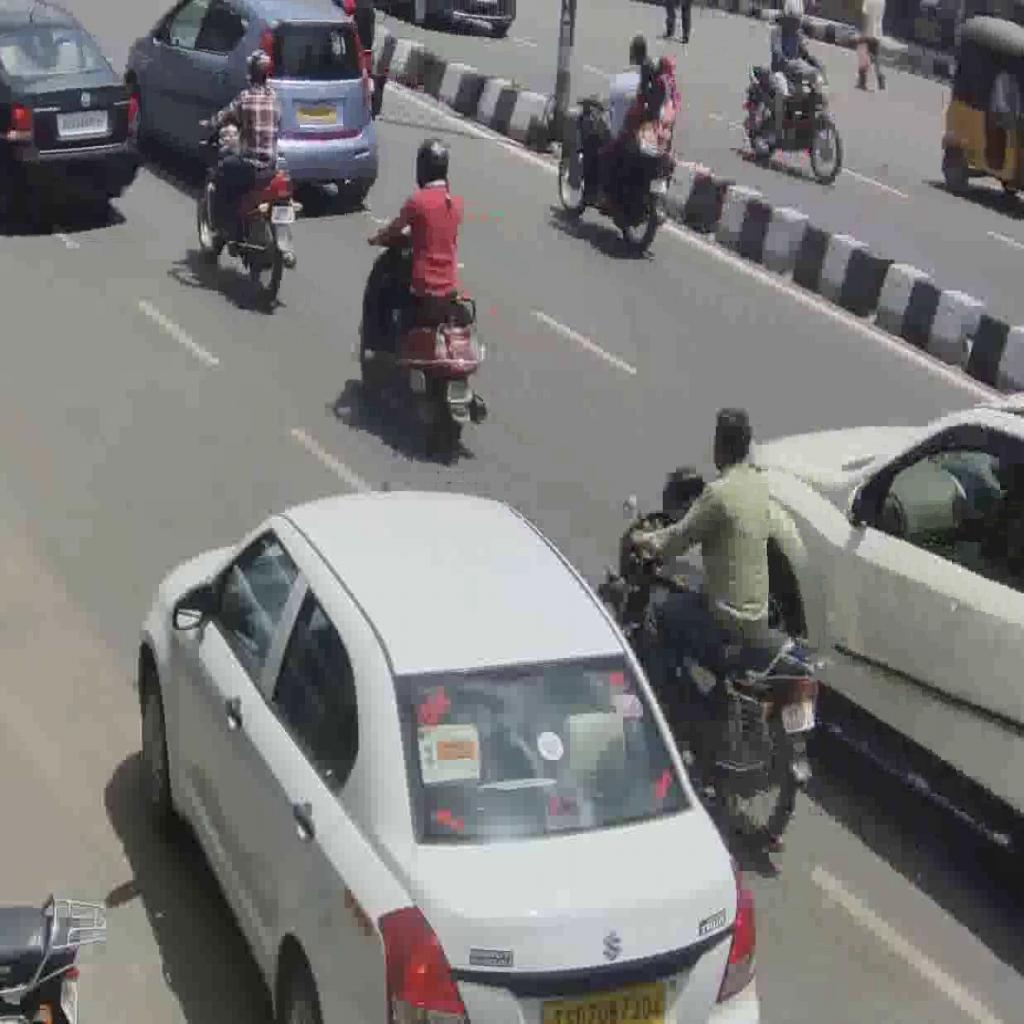bike: (593, 507, 827, 850), (358, 214, 490, 456), (196, 109, 302, 304), (557, 88, 672, 254)
helmet: (414, 134, 451, 189), (242, 47, 272, 88)
lisc: (780, 697, 816, 735), (446, 378, 472, 402), (271, 206, 294, 224)
no_helmet: (711, 403, 754, 476)
noise: (744, 0, 844, 186)
rider: (627, 402, 772, 734), (366, 134, 464, 368), (198, 47, 282, 247)
